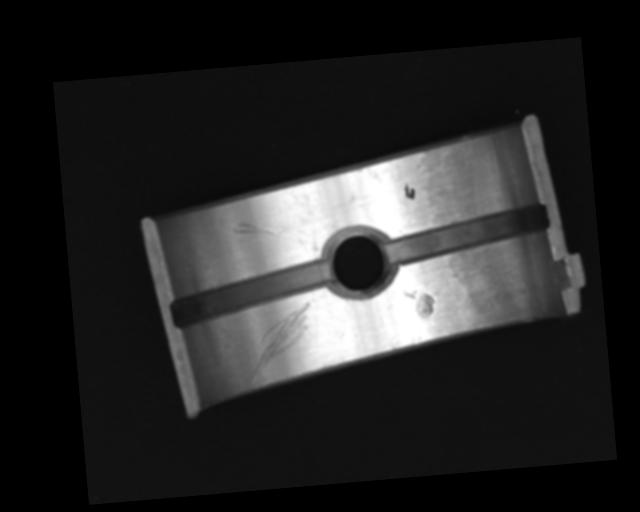blot: (403, 181, 416, 201)
bruise: (404, 288, 437, 320)
gap: (168, 258, 335, 327), (383, 202, 552, 263)
hole: (324, 224, 394, 298)
nick: (242, 301, 317, 383), (232, 218, 287, 239)
